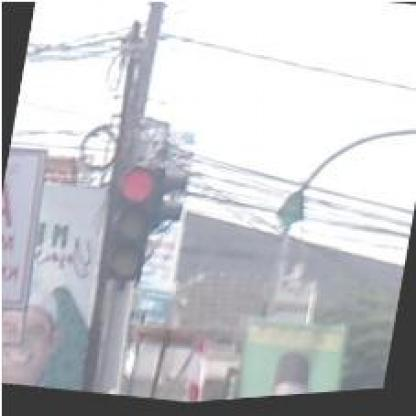red: (98, 163, 159, 288)
